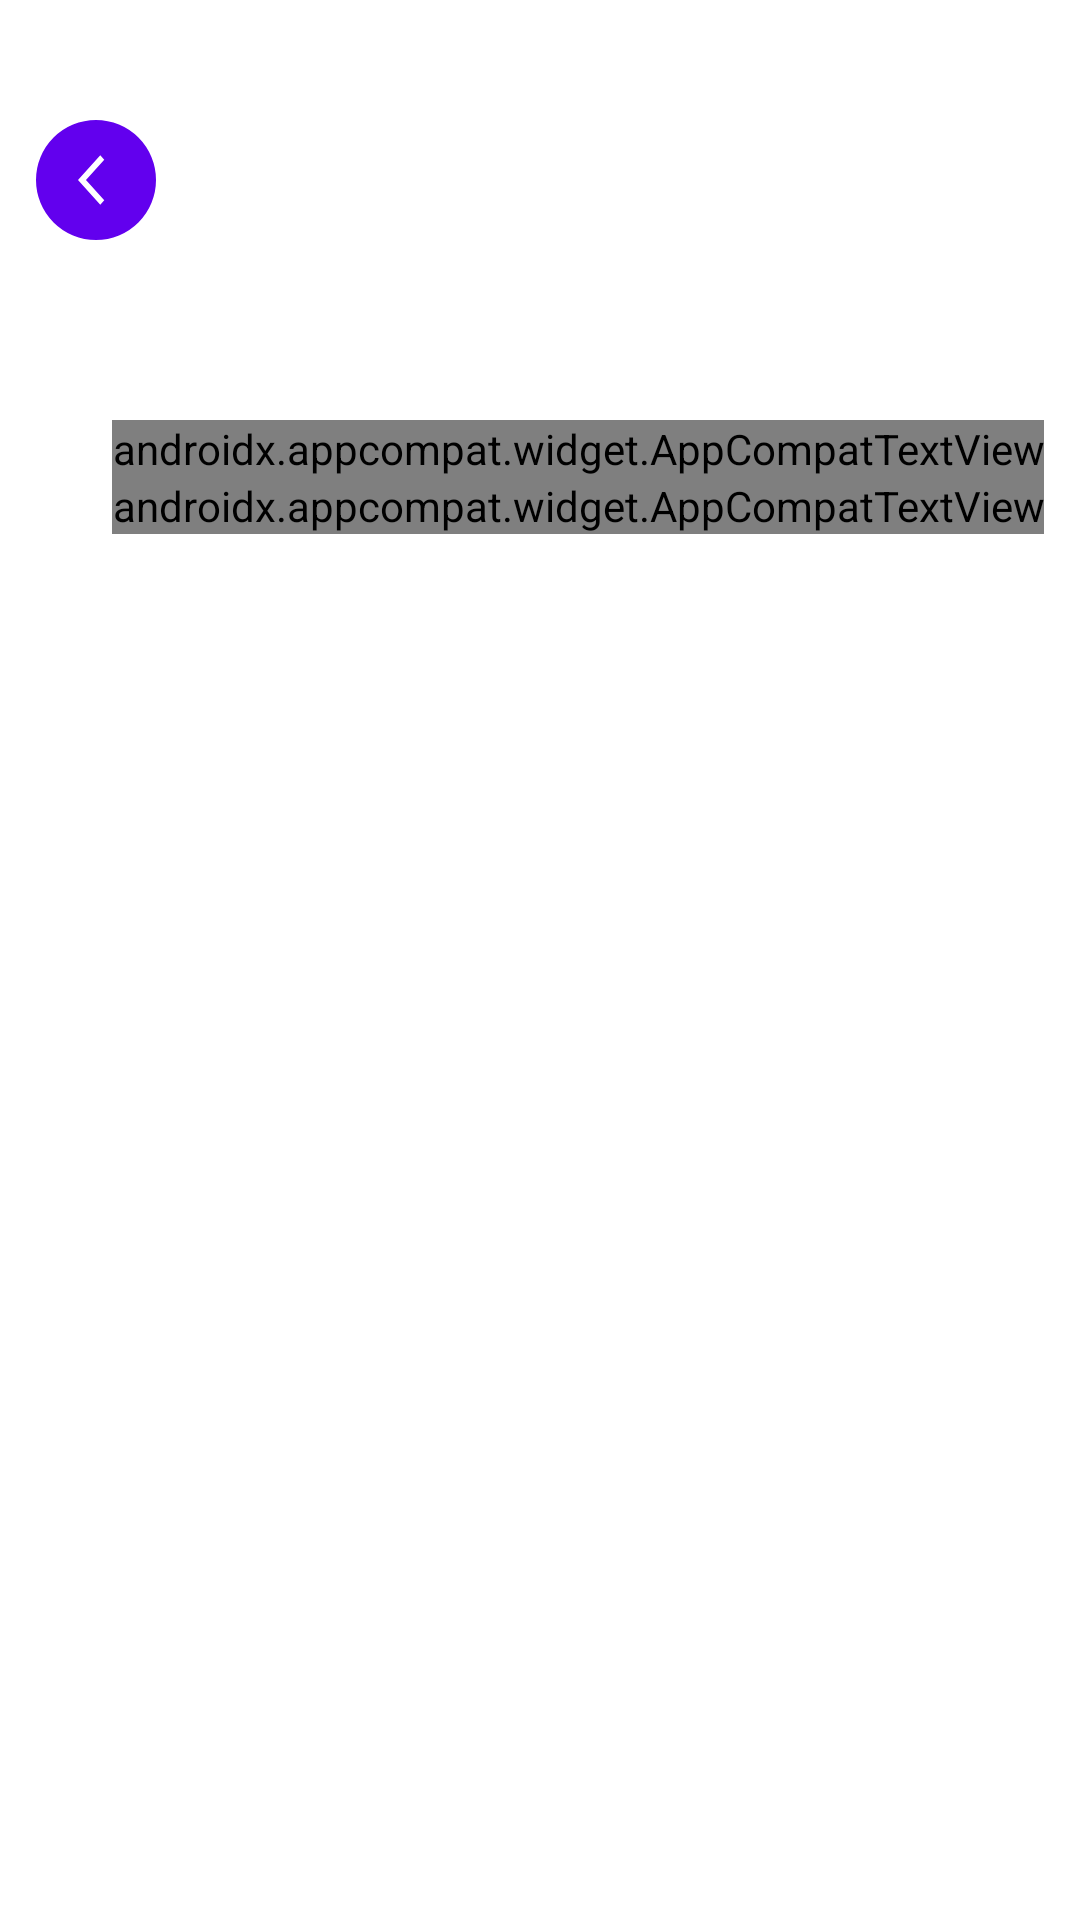

Locate icon controls on the screen. Image size 1080*1920, boxes as [left=x1, top=y1, right=x2, bottom=y2].
arrow back: [left=36, top=120, right=156, bottom=240]
